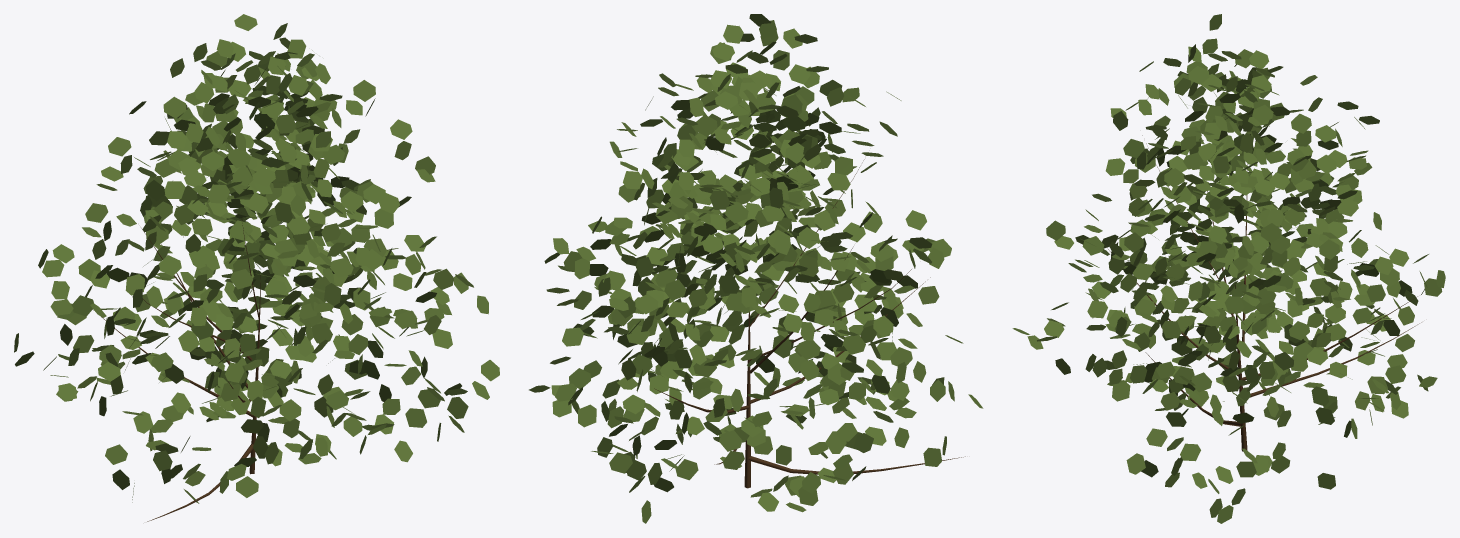
File: bush-tree.glb
3 renders of one model, left to right at view 1: azimuth 30°, elevation 25°; view 2: azimuth 150°, elevation 25°; view 3: azimuth 270°, elevation 25°, orthographic. The views are drawn at different scales.
Visible parts, largest first — view 1: v_tree; view 2: v_tree; view 3: v_tree.
Boxes of the visible parts, box(x1,y1,x2,y2) form: v_tree: box(14, 14, 499, 521); v_tree: box(529, 14, 983, 523); v_tree: box(1012, 14, 1445, 523).
Size of the model in its own units: 4.02 by 4.34 by 3.96.
